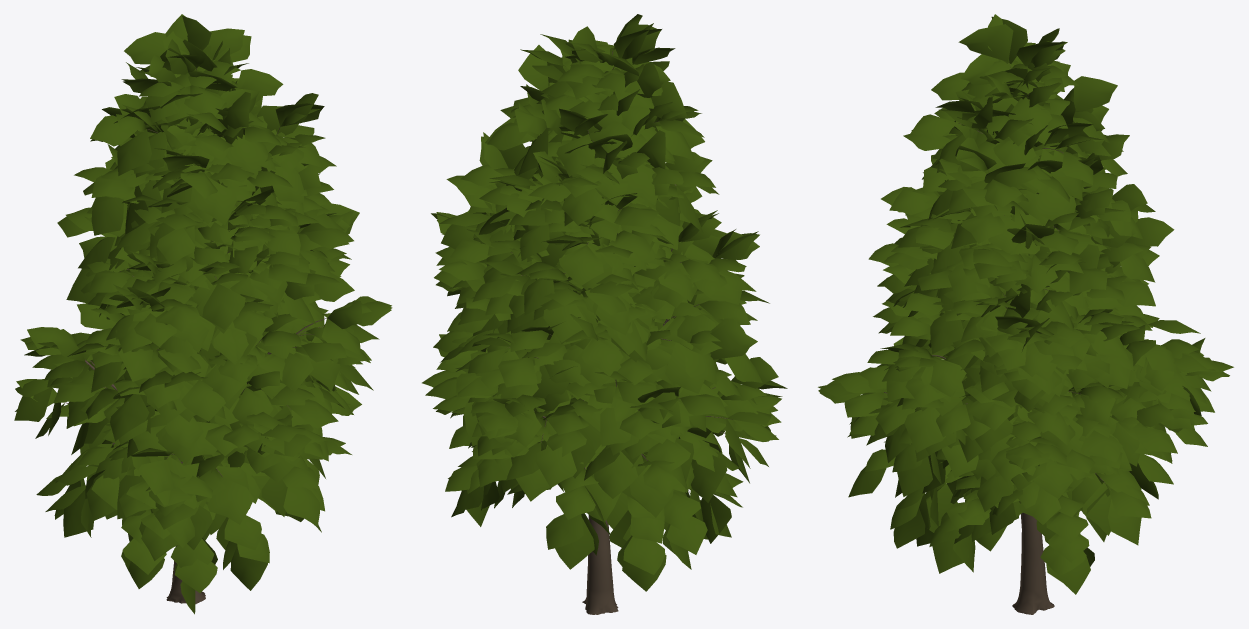
File: Tree 3.fbx
3 views of the same model, side by side, from view 1: azimuth 30°, elevation 25°; view 2: azimuth 150°, elevation 25°; view 3: azimuth 270°, elevation 25° (orthographic).
Visible parts, largest first — view 1: Tree; view 2: Tree; view 3: Tree.
Part boxes in pixels (x1,y1,x2,y2): Tree: [14, 14, 392, 614]; Tree: [422, 14, 787, 614]; Tree: [818, 14, 1233, 614].
Bounding box in the file's own units: 424 × 759 × 499.
